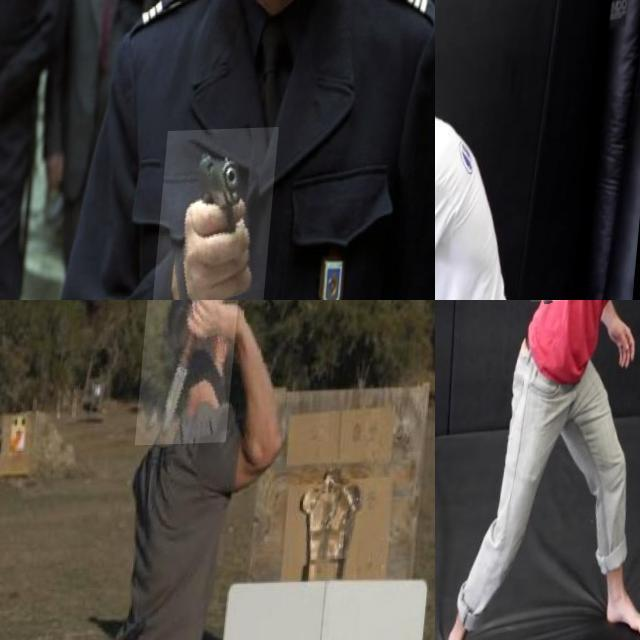-: (139, 300, 241, 447), (534, 300, 627, 345)
gun-knife-thesis - v11 Yolov5 augmented: (164, 130, 287, 300)
